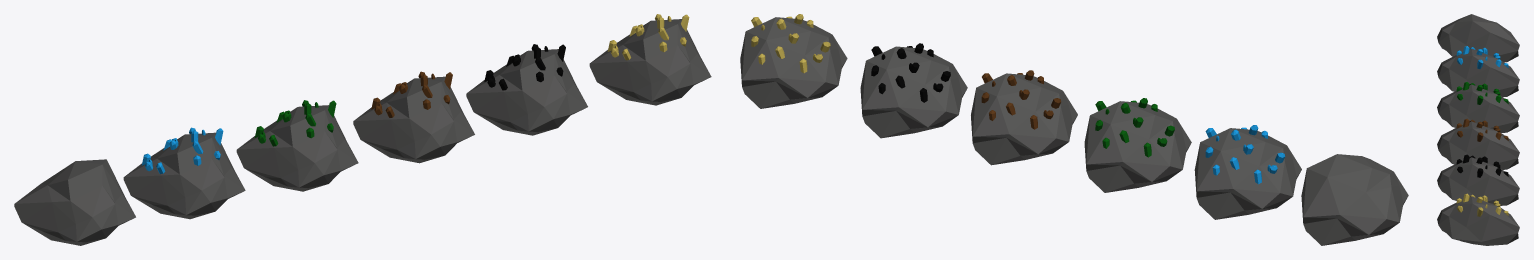
Rendered from madenmodel.fbx.
3 renders of one model, left to right at view 1: azimuth 30°, elevation 25°; view 2: azimuth 150°, elevation 25°; view 3: azimuth 270°, elevation 25°, orthographic. The views are drawn at different scales.
Visible parts, largest first — view 1: kömürmaden, elmasmaden, demirmaden, zümrütmaden, altınmaden, tasmaden; view 2: altınmaden, zümrütmaden, kömürmaden, demirmaden, elmasmaden, tasmaden; view 3: altınmaden, kömürmaden, zümrütmaden, demirmaden, elmasmaden, tasmaden.
Boxes of the visible parts, x1,y1,x2,y2 form: kömürmaden: (466, 44, 587, 135); elmasmaden: (123, 127, 245, 219); demirmaden: (353, 71, 474, 163); zümrütmaden: (236, 100, 358, 191); altınmaden: (589, 14, 711, 105); tasmaden: (14, 159, 135, 245); altınmaden: (740, 14, 847, 108); zümrütmaden: (1084, 98, 1191, 192); kömürmaden: (860, 43, 967, 138); demirmaden: (971, 70, 1077, 165); elmasmaden: (1194, 125, 1301, 219); tasmaden: (1301, 154, 1408, 245); altınmaden: (1437, 193, 1519, 245); kömürmaden: (1437, 154, 1519, 205); zümrütmaden: (1437, 82, 1519, 132); demirmaden: (1437, 118, 1519, 169); elmasmaden: (1437, 46, 1519, 96); tasmaden: (1437, 14, 1519, 62).
Size of the model in its own units: 1242 by 136 by 203.
